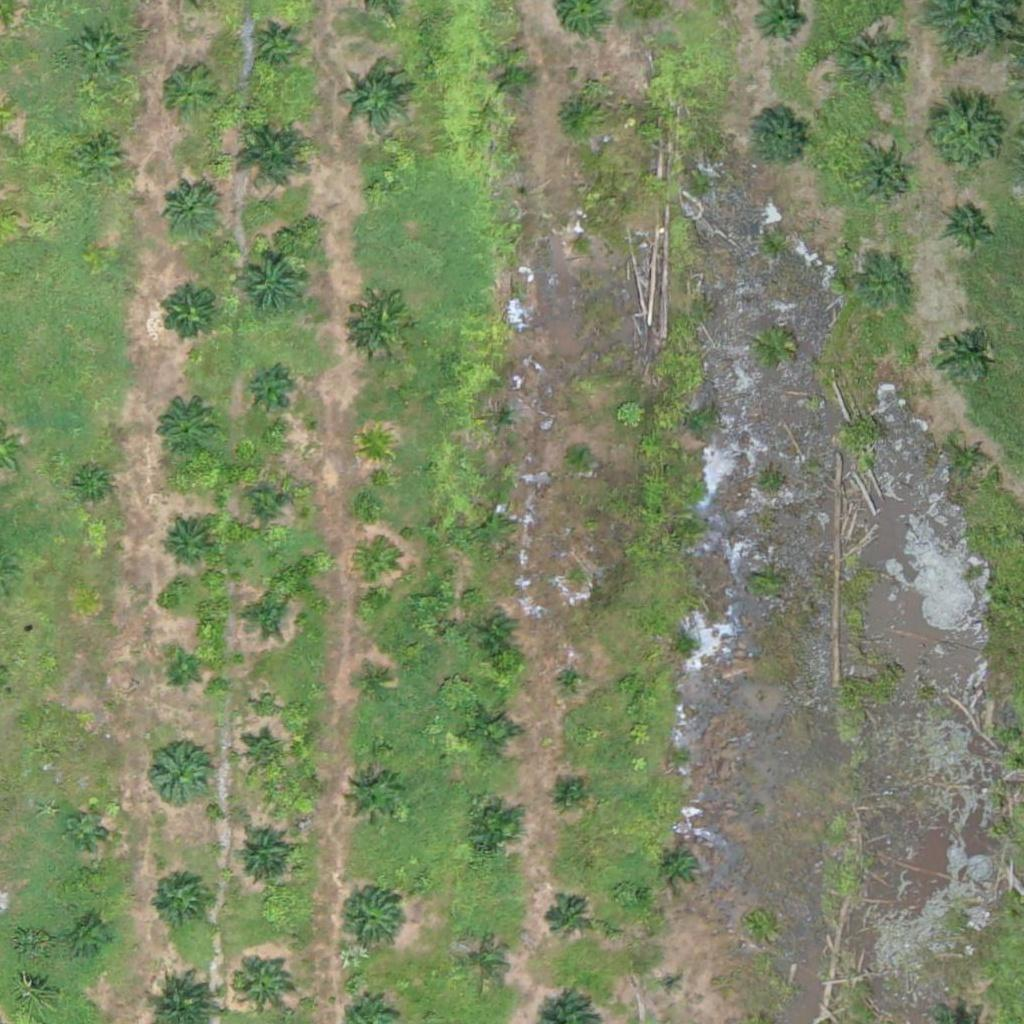Kelapa_Sawit: (918, 92, 1005, 180), (230, 112, 317, 200), (338, 63, 413, 139), (233, 243, 308, 318), (147, 739, 210, 802), (156, 61, 219, 124), (159, 178, 222, 241), (853, 144, 916, 207), (748, 103, 811, 166), (350, 295, 413, 358), (70, 27, 133, 90), (148, 866, 210, 929), (153, 398, 215, 461), (157, 281, 219, 344), (847, 34, 909, 97), (231, 823, 293, 886), (341, 767, 403, 830), (461, 800, 523, 863), (339, 887, 401, 950), (233, 952, 295, 1015), (941, 196, 1003, 259), (460, 701, 522, 764), (159, 519, 209, 570), (236, 589, 286, 640), (488, 53, 538, 104), (550, 88, 600, 139), (542, 893, 592, 944), (240, 369, 290, 419), (860, 263, 910, 313), (936, 327, 986, 377), (73, 128, 123, 178), (457, 938, 507, 988), (656, 841, 706, 891), (237, 732, 287, 782), (241, 483, 291, 533), (249, 21, 298, 72), (953, 441, 991, 479), (356, 426, 394, 464), (554, 663, 592, 701), (478, 615, 516, 653), (358, 548, 396, 586), (357, 668, 395, 706), (474, 506, 512, 544), (73, 469, 111, 507), (72, 920, 109, 958), (483, 400, 520, 438), (164, 652, 201, 690), (67, 808, 104, 845), (556, 779, 581, 805), (568, 440, 593, 465), (565, 231, 590, 256), (366, 178, 391, 203), (660, 969, 685, 994)
